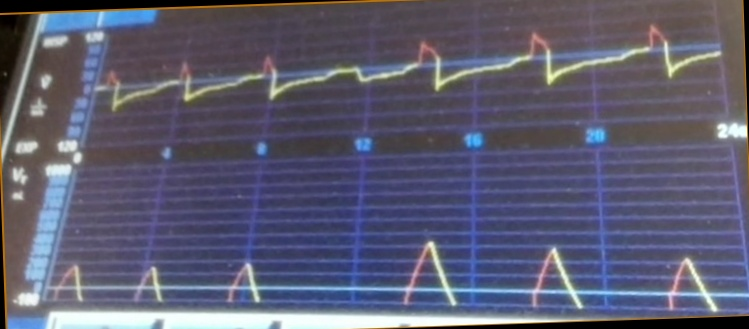Ineffective_effort Flow: (100, 21, 720, 117)
Ineffective_effort Volume: (49, 233, 719, 311)
